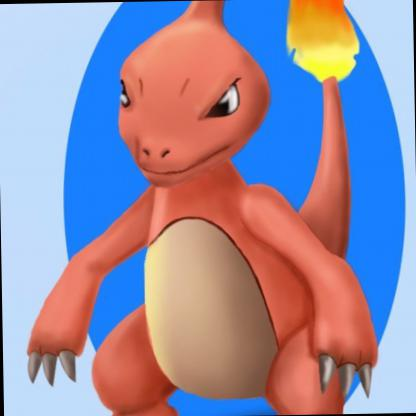Charmeleon: (1, 1, 409, 416)
